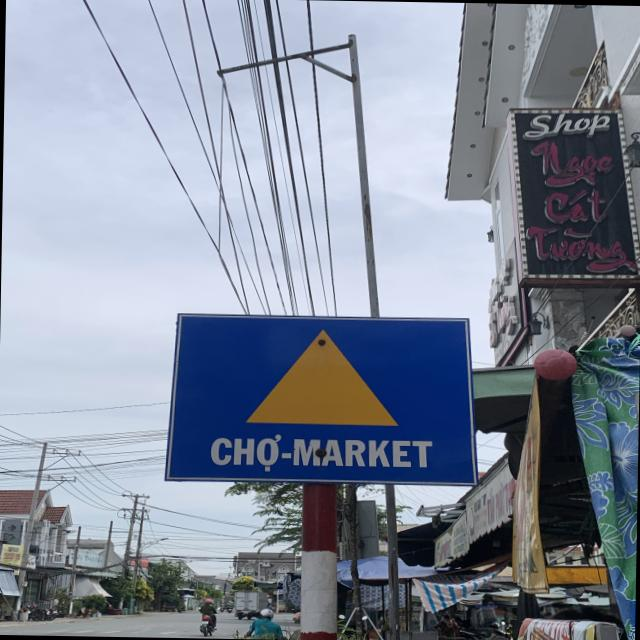Cho_Quay_Xe: (166, 312, 475, 482)
